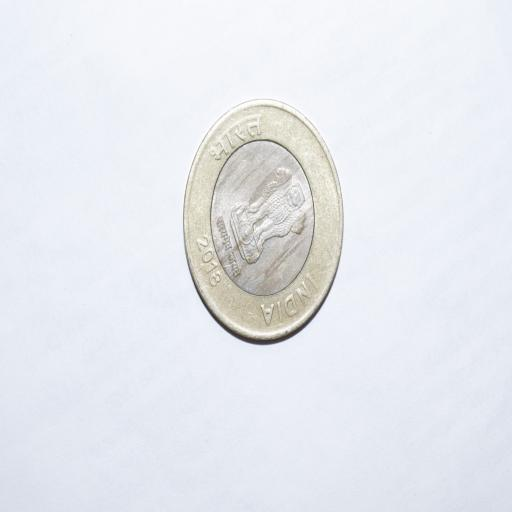rupee10: (178, 96, 345, 345)
